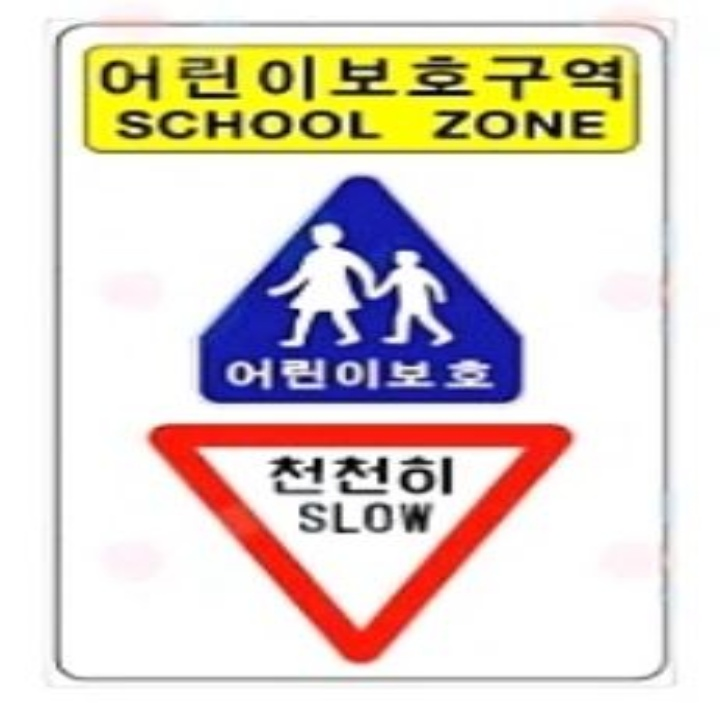child: (265, 215, 451, 353)
